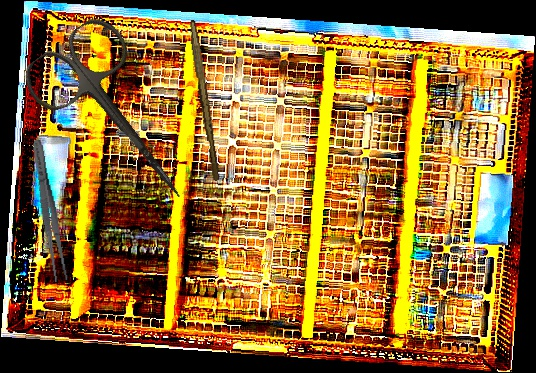Dressing Forceps: (27, 138, 71, 283)
Iris Scissors: (15, 8, 222, 232)
Scalpel Handle: (184, 19, 224, 182)
